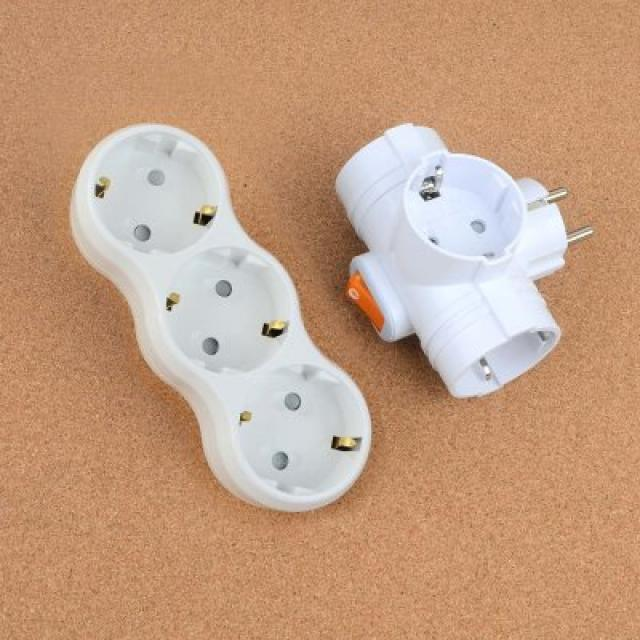typeb: (51, 84, 399, 561)
